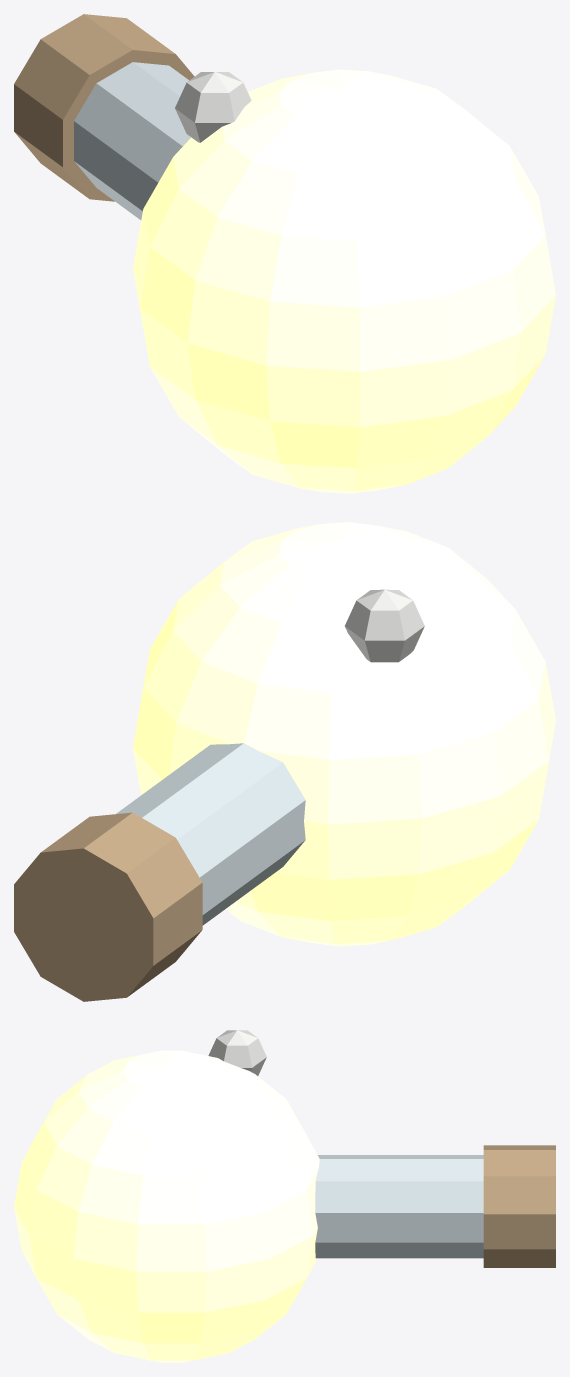
Rendered from vigour_held.gltf.
3 renders of one model, top to bottom at view 1: azimuth 30°, elevation 25°; view 2: azimuth 150°, elevation 25°; view 3: azimuth 270°, elevation 25°, orthographic. The views are drawn at different scales.
Visible parts, largest first — view 1: alchemy_vigour_held; view 2: alchemy_vigour_held; view 3: alchemy_vigour_held.
Part boxes in pixels (box(x1,y1,x2,y2)): alchemy_vigour_held: box(14, 14, 555, 493); alchemy_vigour_held: box(14, 522, 555, 1001); alchemy_vigour_held: box(14, 1030, 555, 1362).
Size of the model in its own units: 0.0936 by 0.097 by 0.165.
